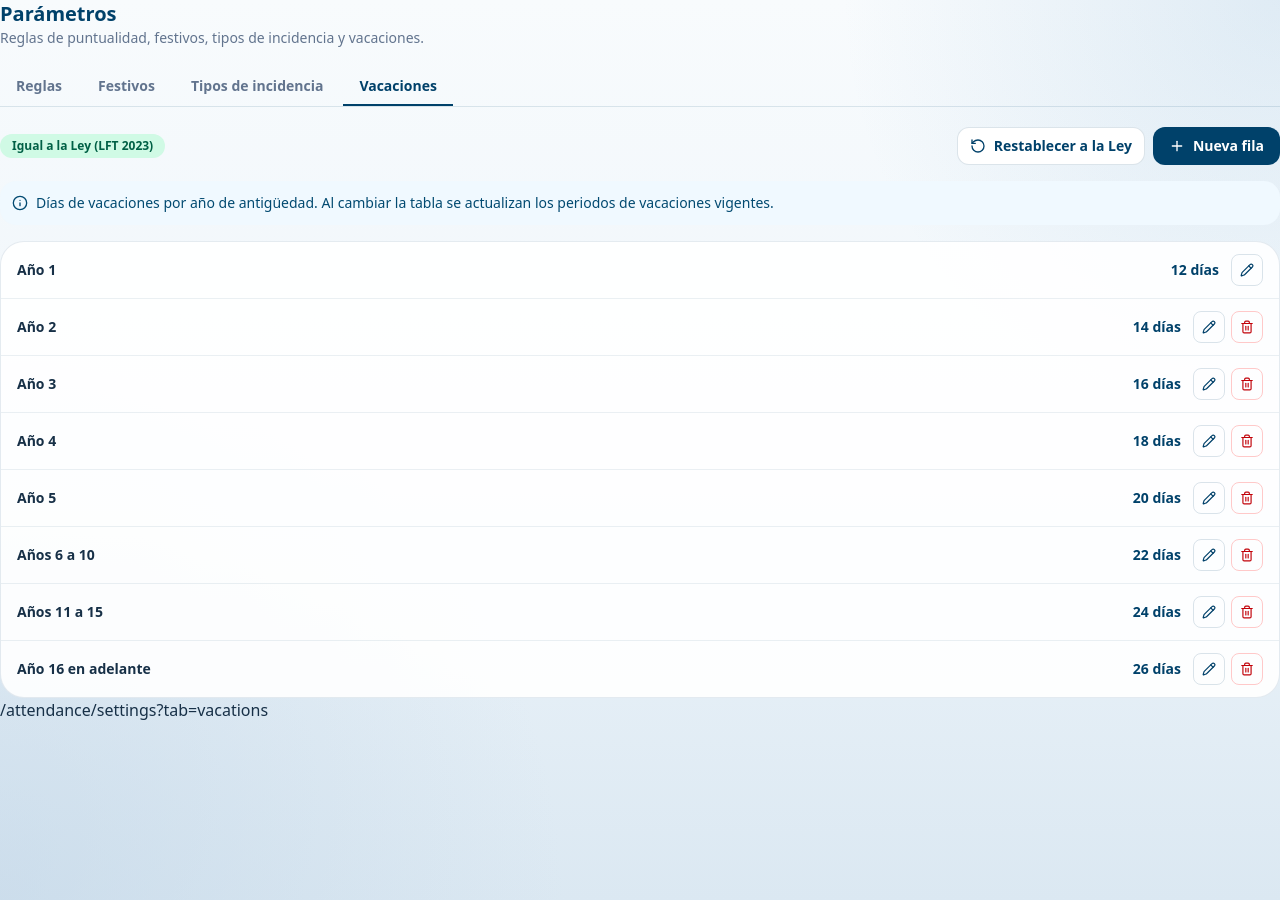
it: Parametros › Vacaciones › nueva fila valida anio y dias
Click the button "Nueva fila".
click(1216, 146)  # box [1153, 127, 1279, 165]
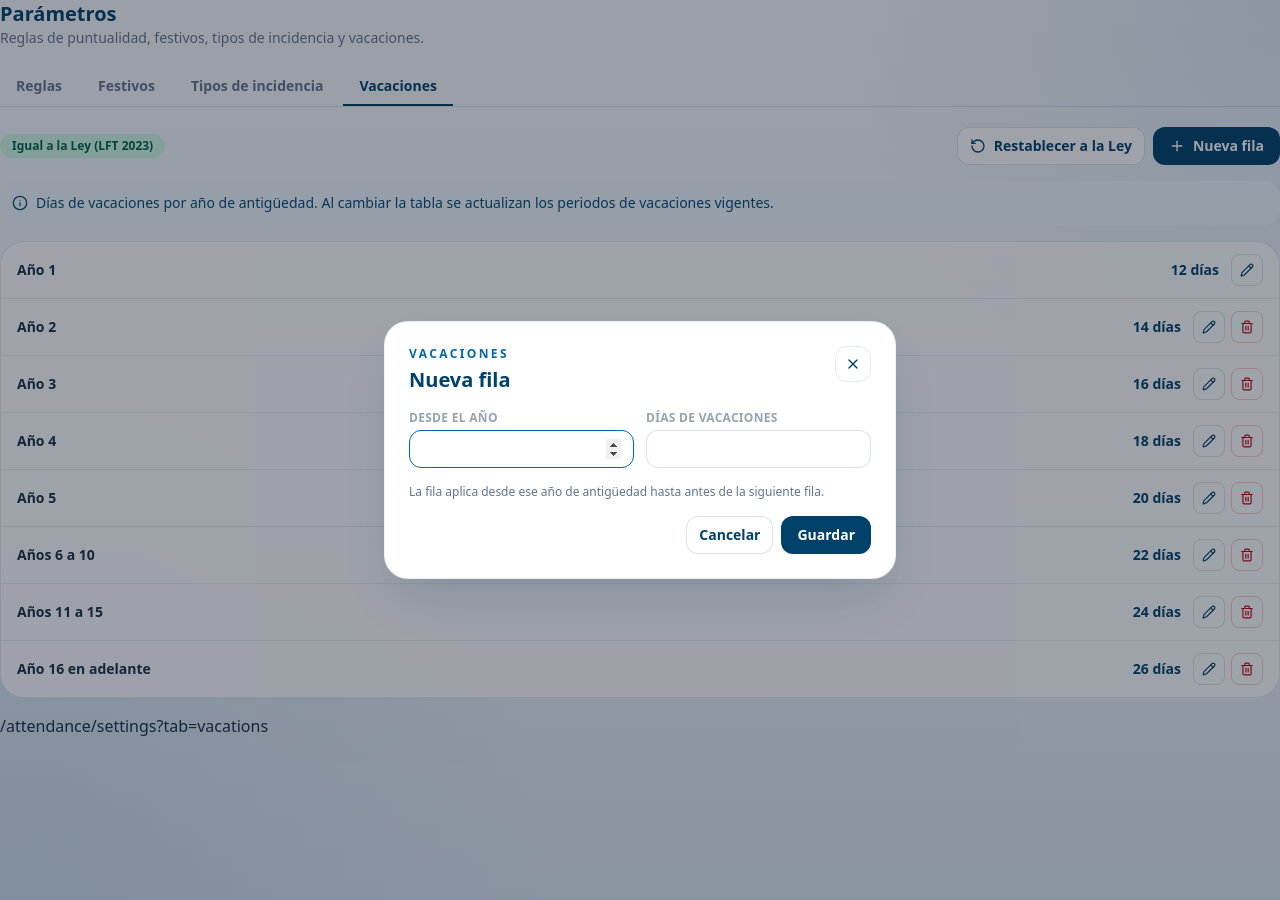
Type "99" into the number field labelled "Desde el año".
click(522, 449); type("99")  # box [409, 430, 634, 468]
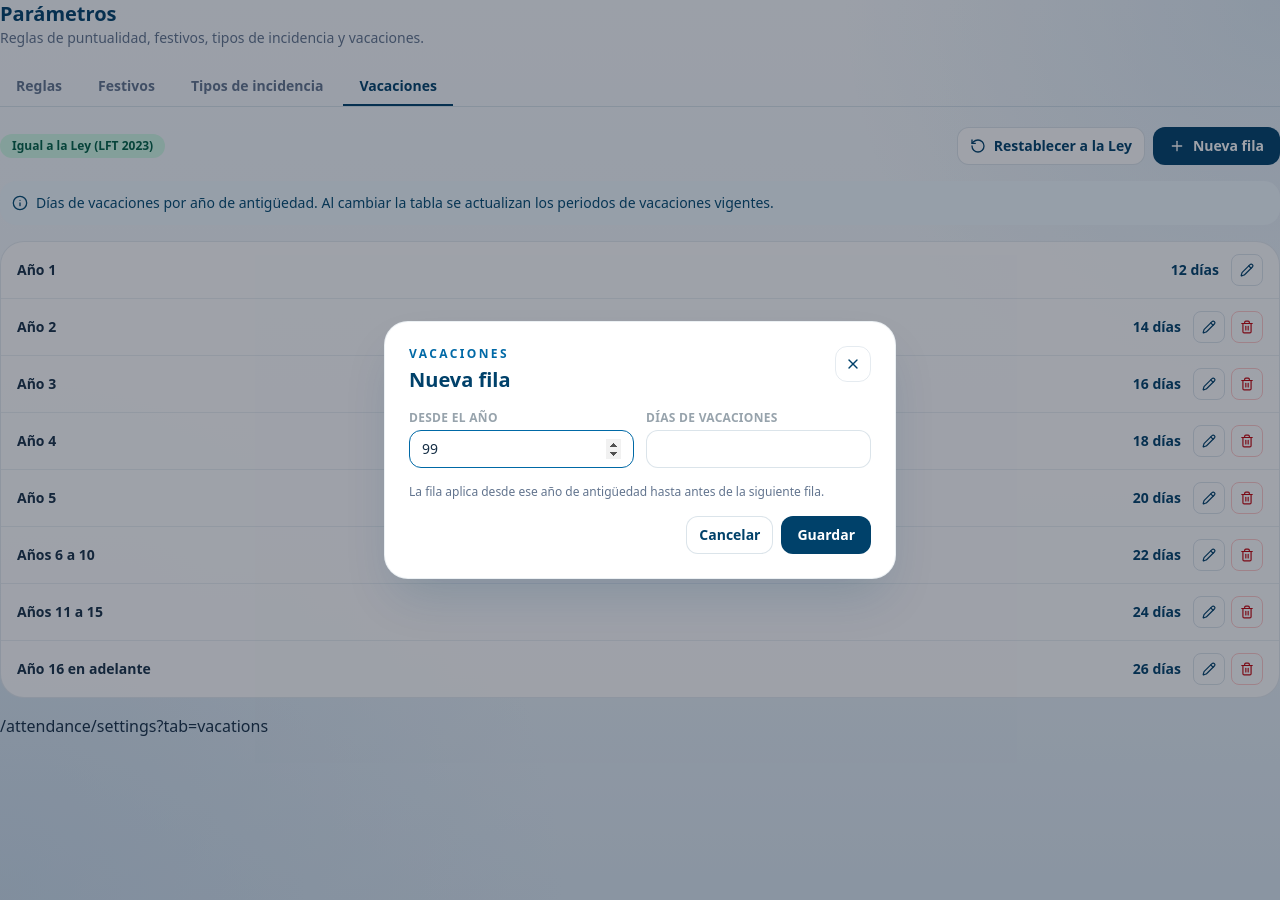
Type "10" into the number field labelled "Días de vacaciones".
click(758, 449); type("10")  # box [646, 430, 871, 468]
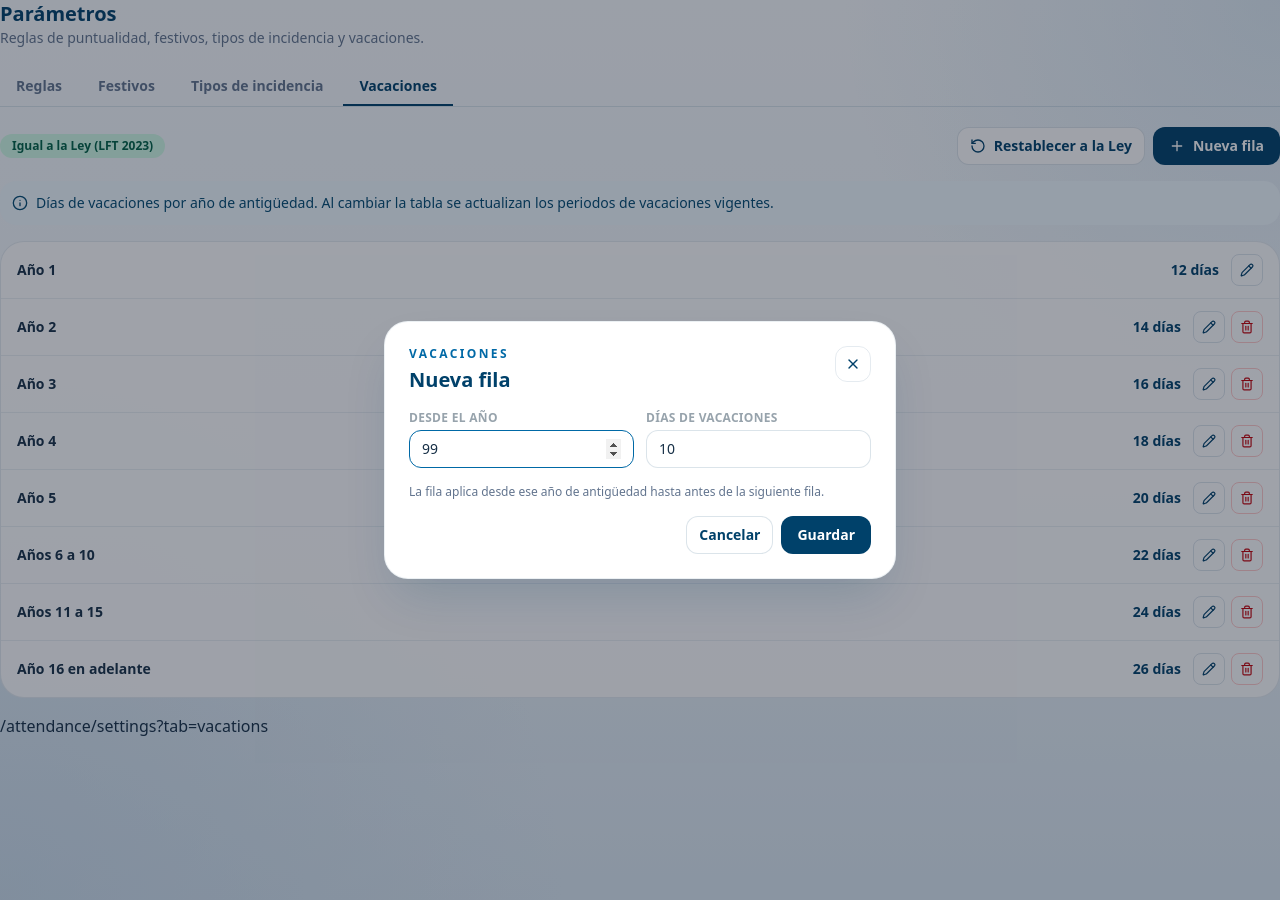
Submit the form, box [409, 410, 871, 554]
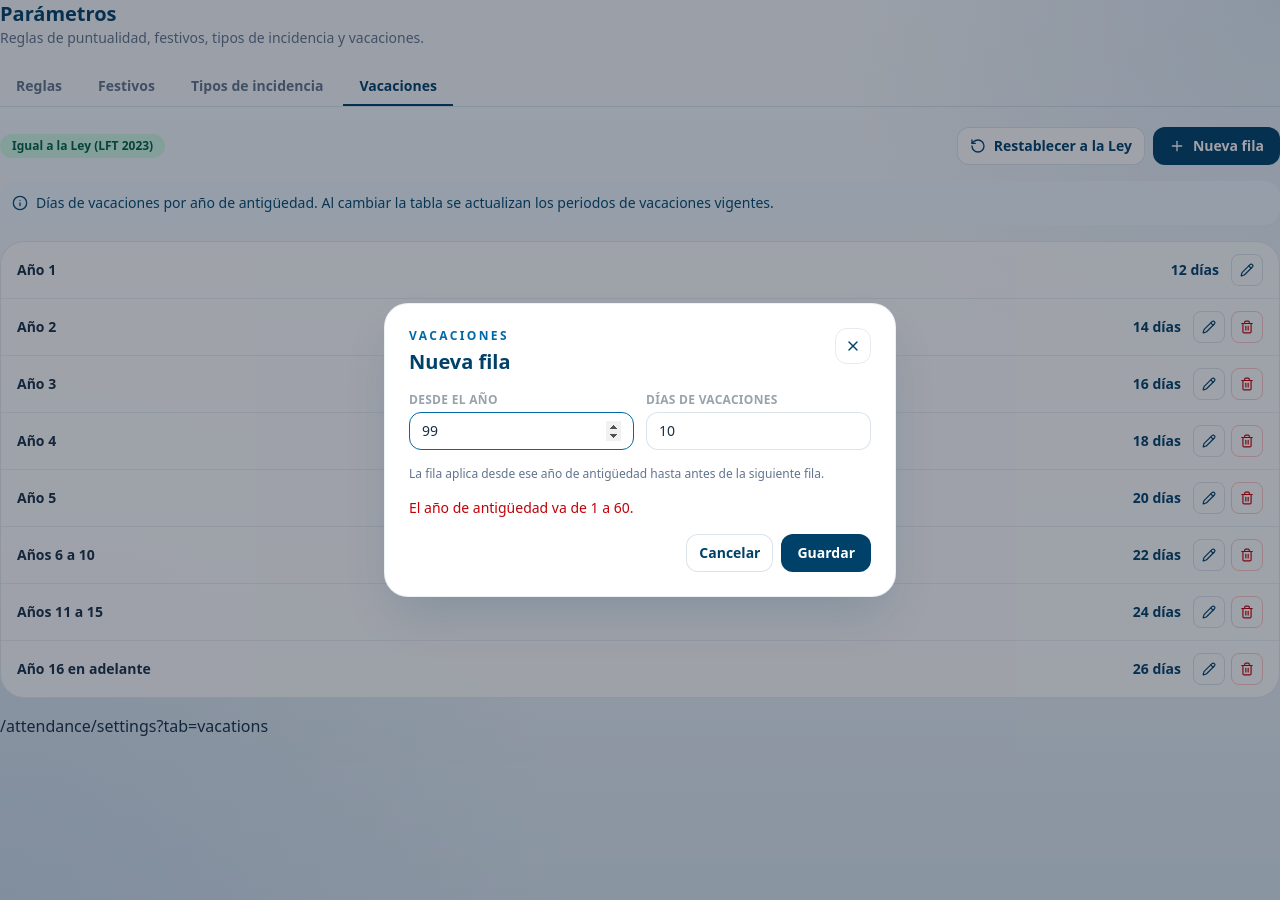
Expected: the message shows "1 a 60", [409, 498, 634, 517]
